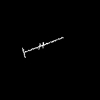treble_crochet: (23, 40, 55, 54)
